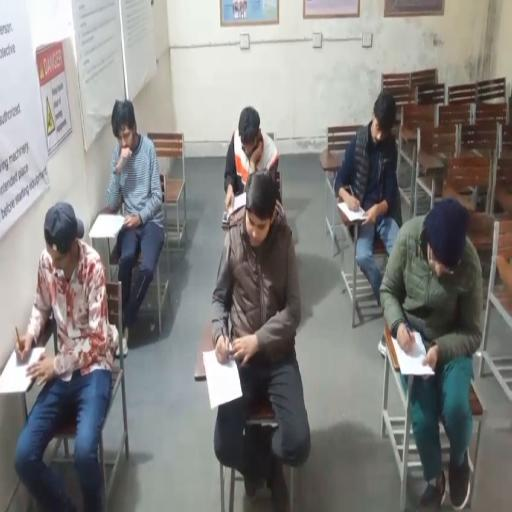paper: (202, 346, 243, 408), (0, 345, 46, 394), (394, 330, 434, 376), (90, 213, 126, 239), (338, 200, 368, 222), (230, 191, 246, 213)
